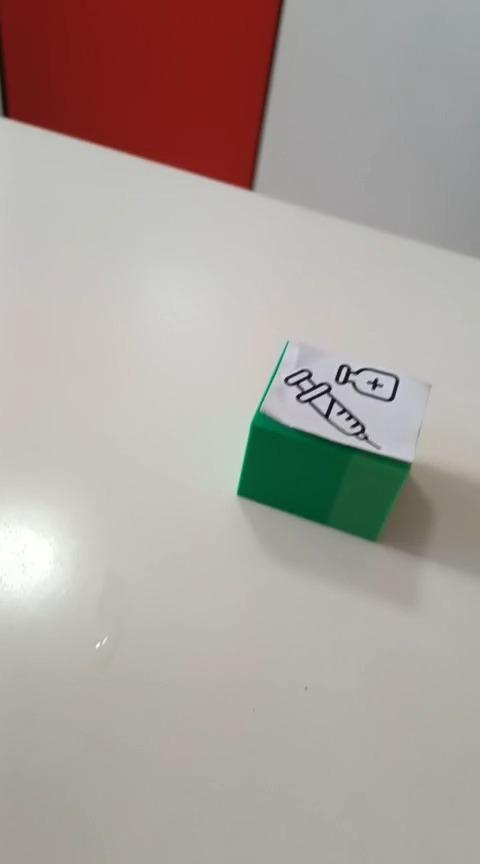antiseptic cream: (235, 337, 431, 542)
